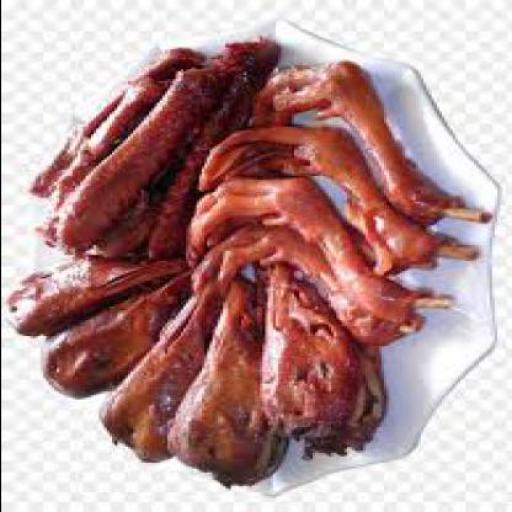biodegradable: (240, 58, 486, 225), (196, 123, 472, 271), (182, 178, 446, 322), (30, 64, 222, 256), (140, 38, 280, 259), (185, 226, 414, 348), (245, 255, 383, 455), (161, 267, 285, 486), (26, 46, 198, 198), (93, 271, 213, 460), (32, 73, 150, 246), (37, 273, 187, 397), (1, 252, 180, 338), (88, 158, 168, 263)
